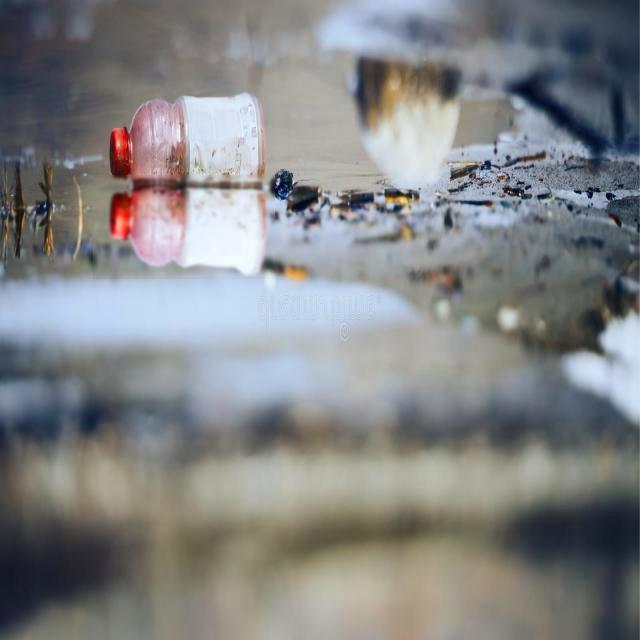Plastic: (104, 184, 277, 278)
Trash: (349, 70, 475, 191)
